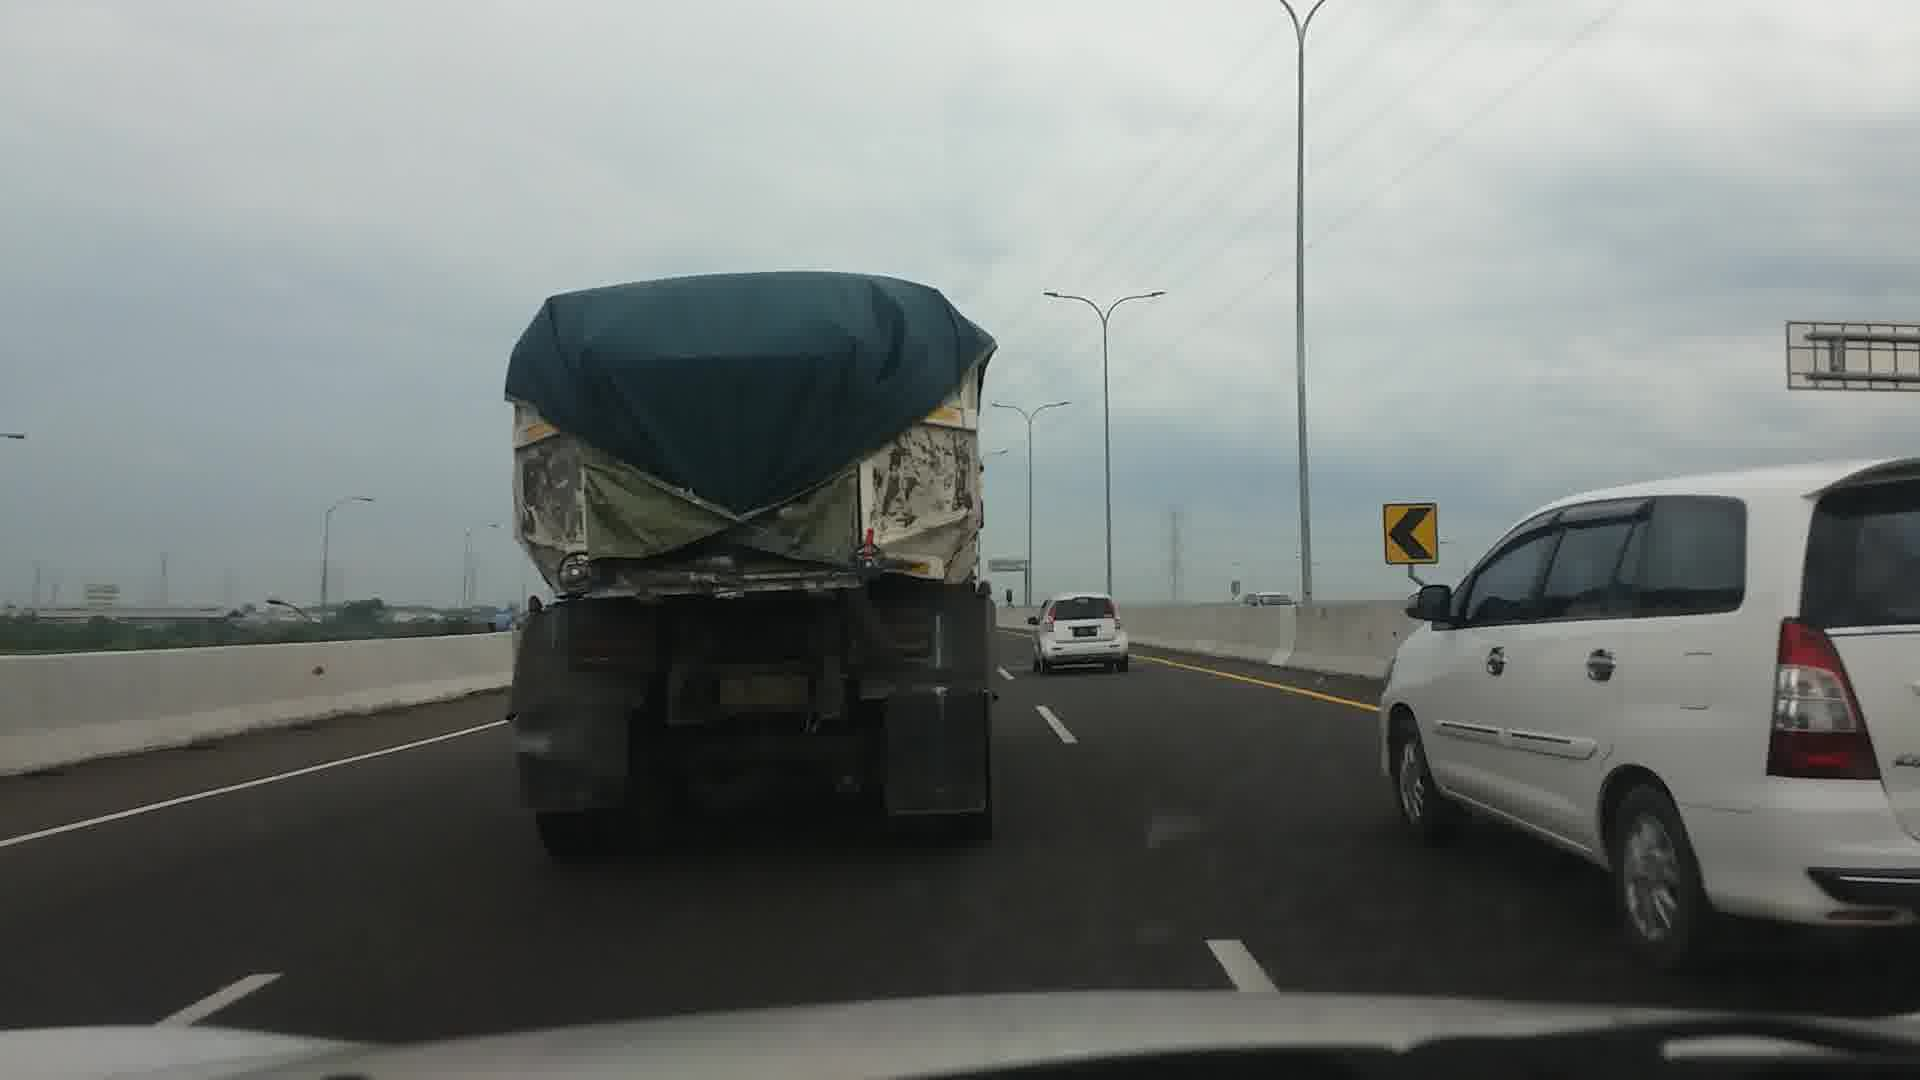plate_positive: (719, 673, 808, 705), (1073, 628, 1097, 637)
